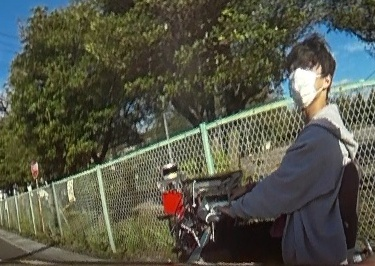person: (229, 38, 351, 266)
